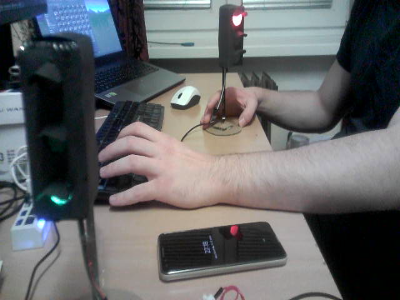trafficlight_green: (30, 49, 82, 213)
trafficlight_red: (229, 9, 245, 64)
